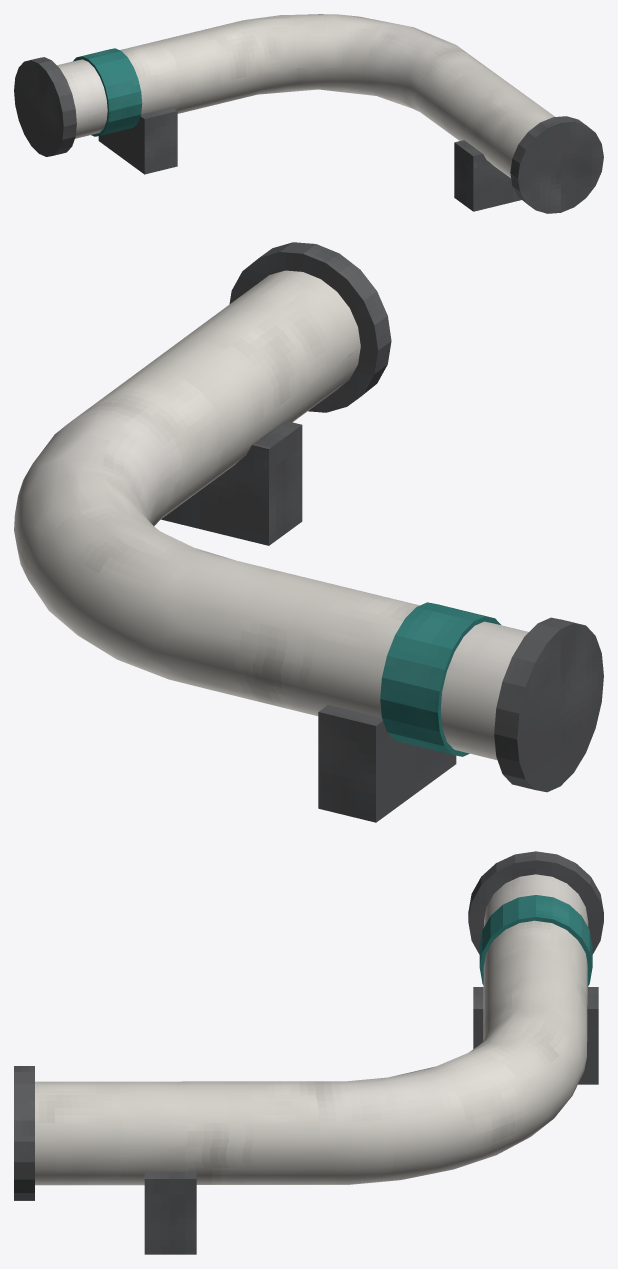
File: pipe-elbow.lod2.glb
The picture shows the model from 3 angles, top to bottom: view 1: azimuth 30°, elevation 25°; view 2: azimuth 150°, elevation 25°; view 3: azimuth 270°, elevation 25°; orthographic projection. The views are drawn at different scales.
Visible parts, largest first — view 1: PipeElbow_white, PipeElbow_gunmetal, PipeElbow_teal; view 2: PipeElbow_white, PipeElbow_gunmetal, PipeElbow_teal; view 3: PipeElbow_white, PipeElbow_gunmetal, PipeElbow_teal.
Part boxes in pixels (box(x1,y1,x2,y2)): PipeElbow_white: box(57, 14, 554, 177); PipeElbow_gunmetal: box(14, 57, 603, 213); PipeElbow_teal: box(73, 48, 142, 136); PipeElbow_white: box(14, 270, 528, 760); PipeElbow_gunmetal: box(161, 242, 603, 822); PipeElbow_teal: box(380, 602, 500, 756); PipeElbow_white: box(35, 874, 588, 1185); PipeElbow_gunmetal: box(14, 851, 603, 1254); PipeElbow_teal: box(479, 895, 592, 986).
Size of the model in its own units: 1.13 by 0.33 by 1.13.
Materials: 3 (3 with a texture image).
